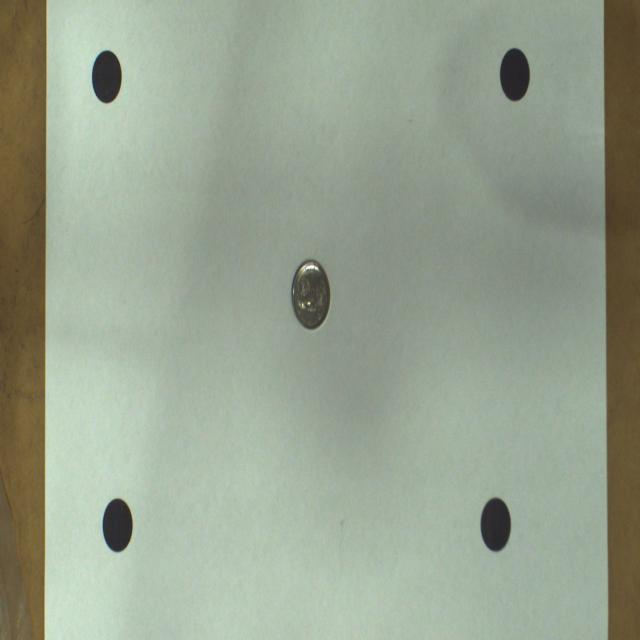head1bath: (291, 260, 330, 329)
space: (102, 498, 132, 553), (480, 498, 511, 551), (500, 49, 530, 102), (92, 51, 121, 104)
